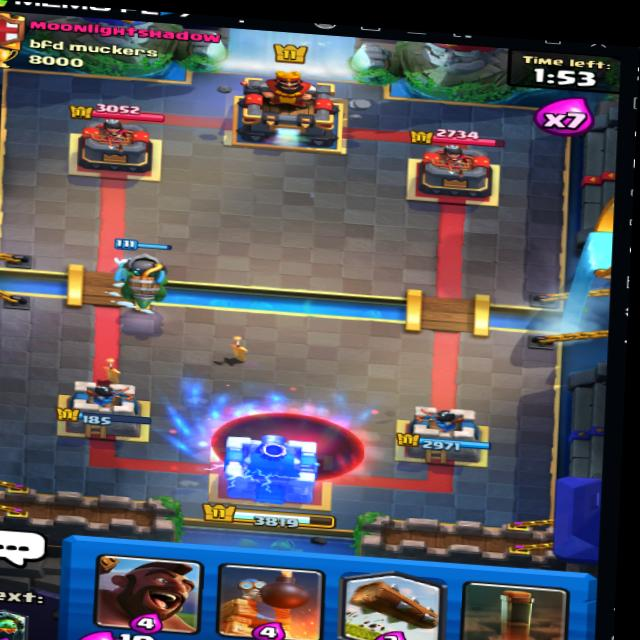lightning: (157, 377, 371, 483)
void: (207, 404, 368, 482)
